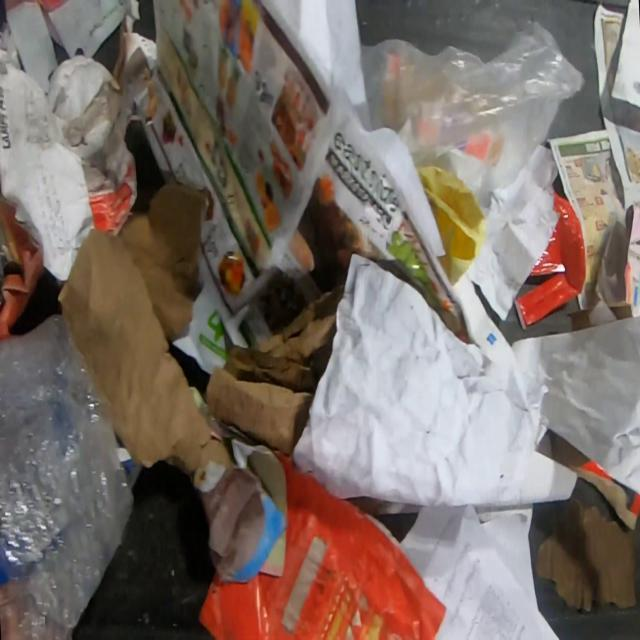cardboard: (204, 284, 346, 455), (552, 431, 640, 532)
rigid_plastic: (46, 55, 138, 236), (513, 188, 588, 330)
soft_plastic: (0, 312, 137, 639), (355, 22, 586, 209)
